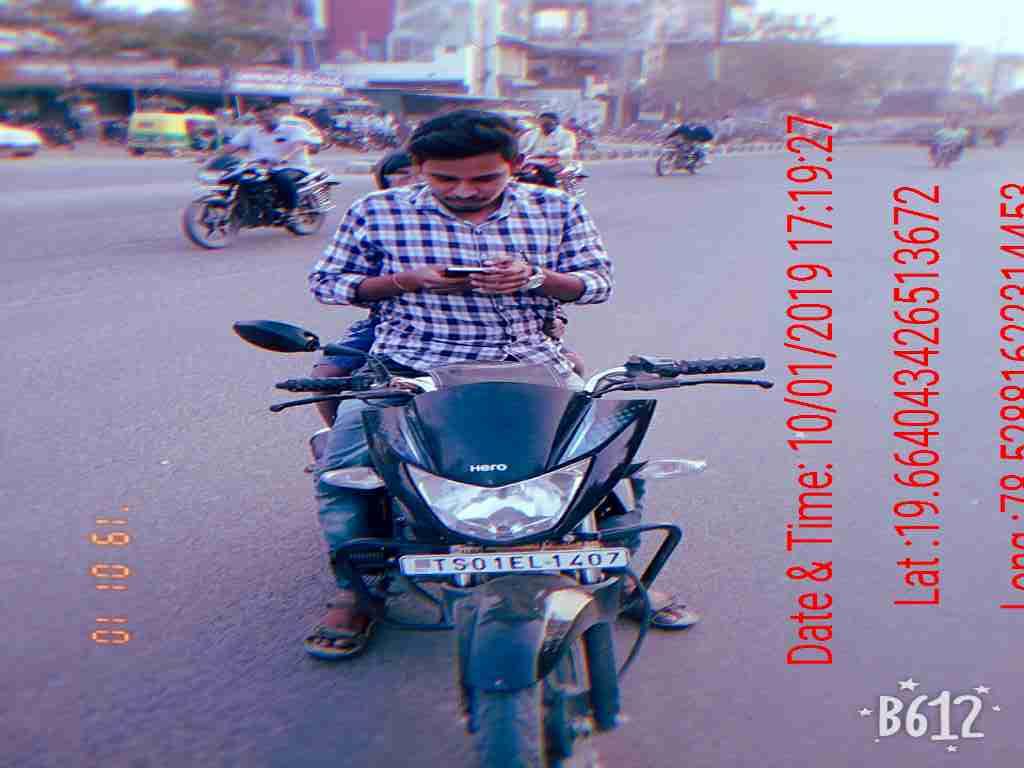plate: (396, 543, 637, 577)
